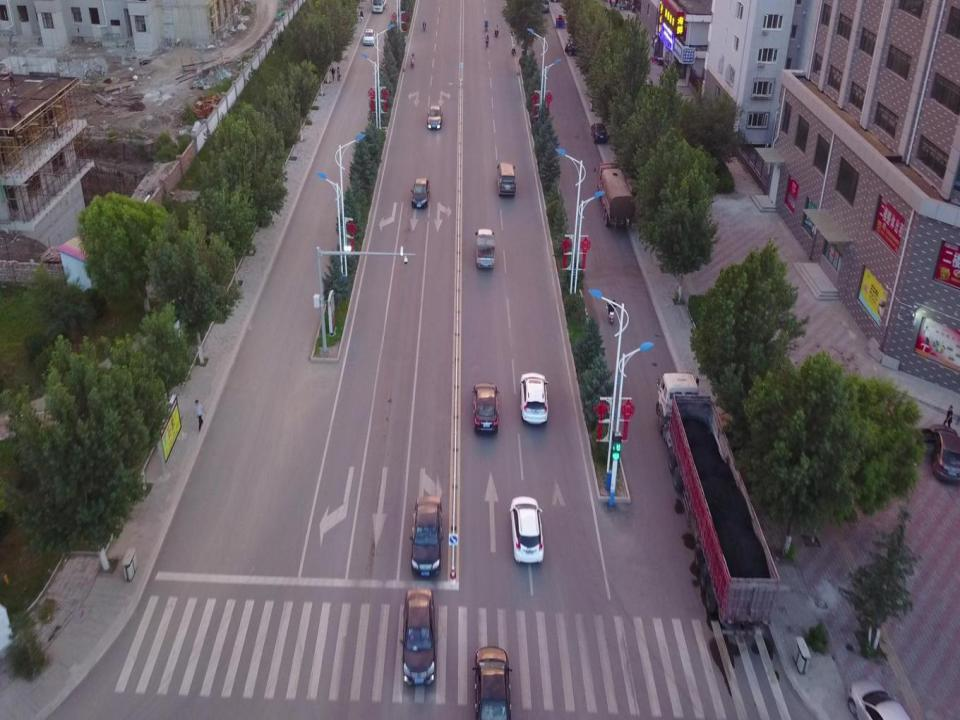car: (400, 588, 436, 685), (472, 645, 512, 720), (409, 496, 444, 577), (845, 678, 911, 720), (509, 496, 543, 564), (930, 424, 960, 484), (520, 372, 548, 424), (472, 383, 499, 433), (411, 178, 429, 208), (427, 104, 442, 129), (590, 122, 607, 143), (565, 42, 590, 56), (363, 28, 375, 45)
truck: (656, 372, 780, 627), (594, 162, 634, 229), (476, 228, 495, 269), (371, 0, 388, 13)
van: (496, 163, 516, 196)
